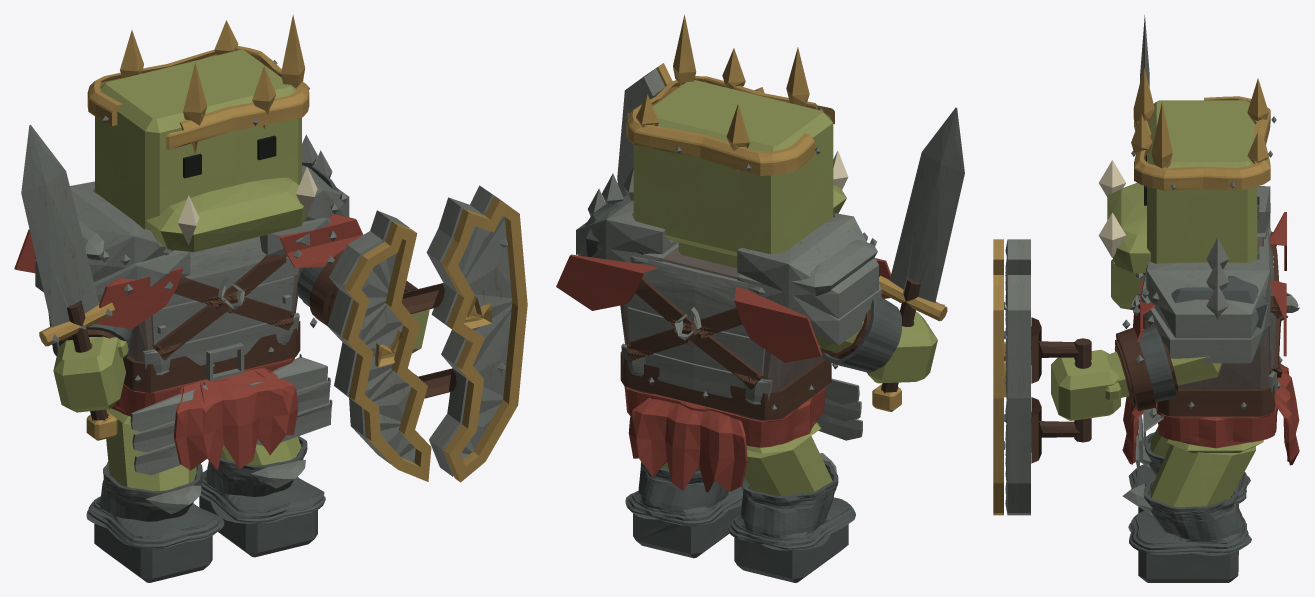
The model's file is host_36.glb.
The picture shows the model from 3 angles, left to right: view 1: azimuth 30°, elevation 25°; view 2: azimuth 150°, elevation 25°; view 3: azimuth 270°, elevation 25°; orthographic projection. The views are drawn at different scales.
Visible parts, largest first — view 1: One continuous source skull, Source broad chipped bronze gold fractured shield perimeter  (×2), LEFT actual broken shield separated fragment 0, Source long torn red loincloth -0.214, LEFT actual broken shield separated fragment 1, RIGHT source volumetric bevelled battered sword, RIGHT source planted boot full iron shin wrap, LEFT source planted boot full iron shin wrap, Actual source asymmetrically chipped open crown, RIGHT real compact source grasp source compact planar grasp, Source substantial battered layered shoulder 10, Source broad studded continuous fallen waist (+35 smaller); view 2: One continuous source skull, Source long torn red loincloth 0.225, RIGHT source volumetric bevelled battered sword, Source substantial battered layered shoulder 10, RIGHT source planted boot full iron shin wrap, Actual source asymmetrically chipped open crown, Source broad studded continuous fallen waist, LEFT source planted boot full iron shin wrap, Source segmented fitted BACK steel body plate 0, Source torn shoulder under-mantle BACK1, Source torn shoulder under-mantle BACK-1, RIGHT source short joined leg (+28 smaller); view 3: One continuous source skull, Source substantial battered layered shoulder -10, LEFT actual broken shield separated fragment 0, LEFT source planted boot full iron shin wrap, LEFT source short joined leg, Actual source asymmetrically chipped open crown, LEFT real compact source grasp source compact planar grasp, Source fitted ragged hem, Source broad studded continuous fallen waist, Source substantial battered layered shoulder -11, LEFT source planted boot, Source broad chipped bronze gold fractured shield perimeter  (+31 smaller).
Part boxes in pixels (x1,y1,x2,y2): One continuous source skull: [95, 49, 308, 252]; Source broad chipped bronze gold fractured shield perimeter  (×2): [342, 196, 527, 482]; LEFT actual broken shield separated fragment 0: [426, 185, 512, 476]; Source long torn red loincloth -0.214: [174, 367, 298, 470]; LEFT actual broken shield separated fragment 1: [327, 210, 415, 464]; RIGHT source volumetric bevelled battered sword: [21, 125, 99, 327]; RIGHT source planted boot full iron shin wrap: [86, 461, 224, 549]; LEFT source planted boot full iron shin wrap: [200, 436, 325, 523]; Actual source asymmetrically chipped open crown: [87, 46, 309, 149]; RIGHT real compact source grasp source compact planar grasp: [53, 336, 128, 412]; Source substantial battered layered shoulder 10: [35, 181, 174, 281]; Source broad studded continuous fallen waist: [123, 320, 300, 392]; One continuous source skull: [633, 80, 846, 256]; Source long torn red loincloth 0.225: [628, 394, 747, 492]; RIGHT source volumetric bevelled battered sword: [889, 107, 964, 302]; Source substantial battered layered shoulder 10: [737, 213, 878, 318]; RIGHT source planted boot full iron shin wrap: [727, 461, 855, 550]; Actual source asymmetrically chipped open crown: [626, 76, 834, 175]; Source broad studded continuous fallen waist: [620, 351, 831, 420]; LEFT source planted boot full iron shin wrap: [625, 462, 743, 525]; Source segmented fitted BACK steel body plate 0: [623, 256, 765, 336]; Source torn shoulder under-mantle BACK1: [734, 287, 822, 362]; Source torn shoulder under-mantle BACK-1: [556, 254, 658, 310]; RIGHT source short joined leg: [744, 436, 832, 496]; One continuous source skull: [1107, 100, 1257, 272]; Source substantial battered layered shoulder -10: [1145, 246, 1270, 338]; LEFT actual broken shield separated fragment 0: [1005, 275, 1030, 515]; LEFT source planted boot full iron shin wrap: [1128, 478, 1251, 555]; LEFT source short joined leg: [1150, 444, 1255, 507]; Actual source asymmetrically chipped open crown: [1133, 96, 1270, 190]; LEFT real compact source grasp source compact planar grasp: [1051, 349, 1120, 420]; Source fitted ragged hem: [1155, 350, 1277, 448]; Source broad studded continuous fallen waist: [1157, 385, 1274, 416]; Source substantial battered layered shoulder -11: [1139, 276, 1270, 363]; LEFT source planted boot: [1138, 550, 1238, 582]; Source broad chipped bronze gold fractured shield perimeter : [993, 275, 1003, 515].
Size of the model in its own units: 1.75 by 2.07 by 1.21.
10 materials, 9 textured.
